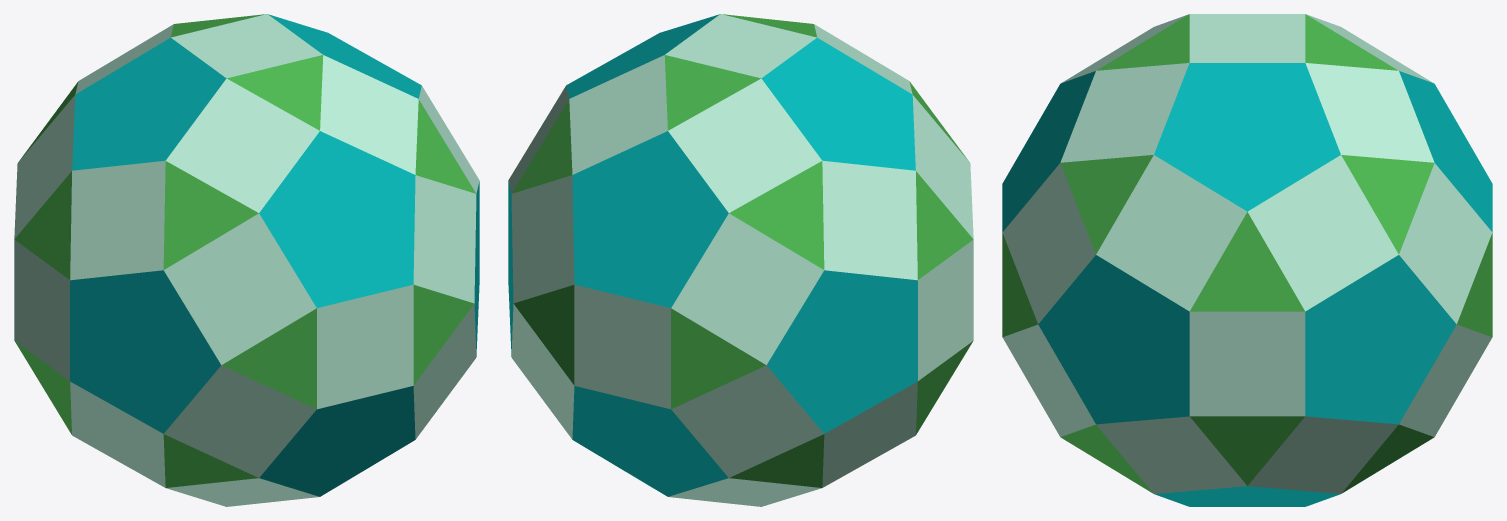
Rendered from 15.Rombicosidodecaedro.gltf.
3 views of the same model, side by side, from view 1: azimuth 30°, elevation 25°; view 2: azimuth 150°, elevation 25°; view 3: azimuth 270°, elevation 25° (orthographic). The views are drawn at different scales.
Parts seen in each view (by area): view 1: Solid.001; view 2: Solid.001; view 3: Solid.001.
Part boxes in pixels (x1,y1,x2,y2): Solid.001: (14,14,479,506); Solid.001: (508,14,973,506); Solid.001: (1002,14,1492,506).
Bounding box in the file's own units: 1.63 × 1.63 × 1.63.
